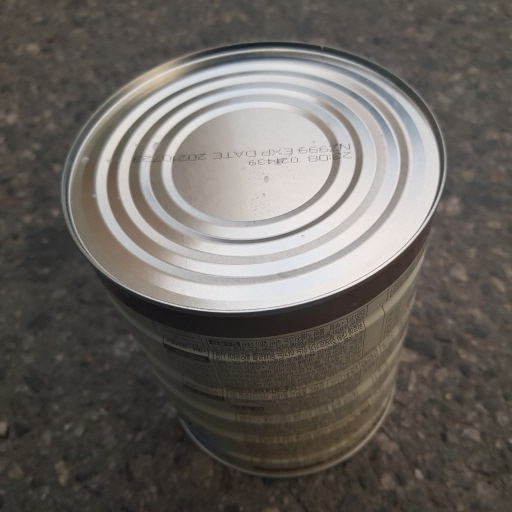Metal_1: (61, 44, 448, 479)
